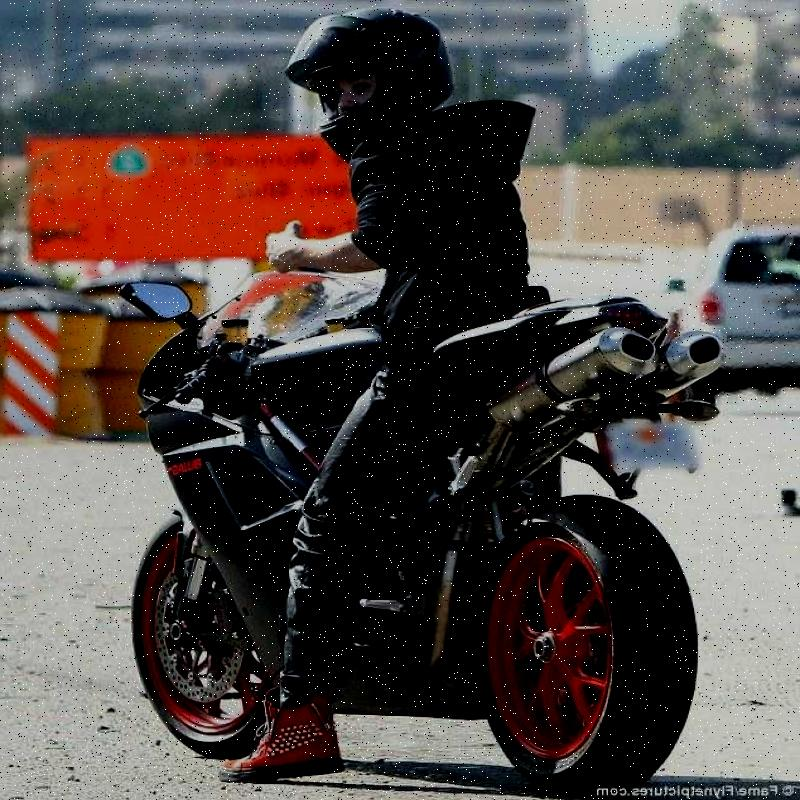bike: (96, 250, 718, 788)
